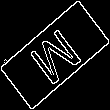M_SE: (24, 21, 86, 89)
